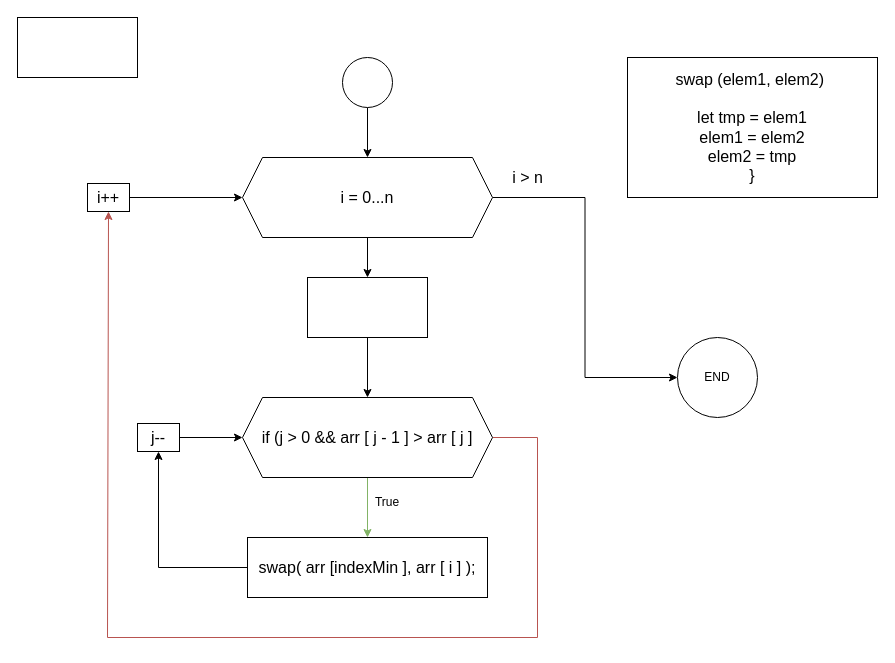
The diagram is 895 pixels wide and 663 high, and some of its shapes have lost their labels. Here are the shapes that lost their labels. From the top down, the box of each, then its label:
(16, 16, 138, 78): n = arr.lenght ;
(342, 56, 392, 108): array
(306, 276, 428, 338): let j = i + 1;
